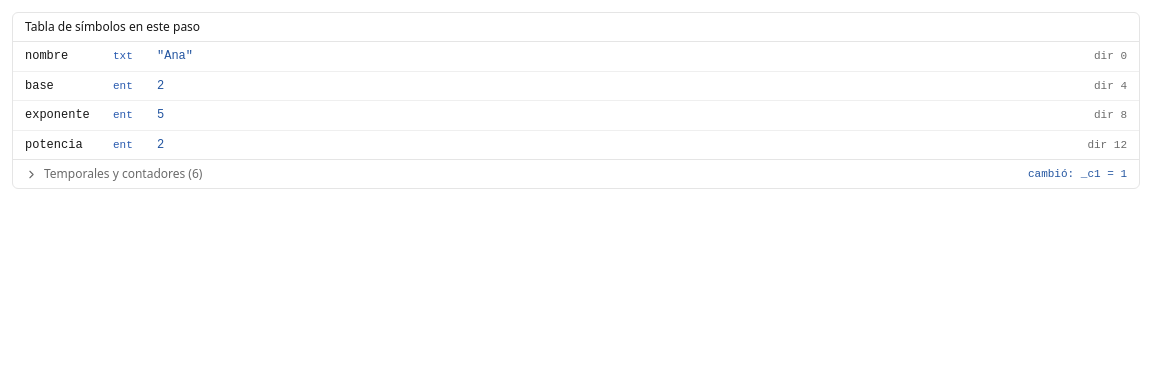
Scenario: trazas más claras › los temporales van aparte y, plegados, dicen cuál cambió
Click the button "Temporales y contadores (6) cambió: _c1 = 1" at (123, 174), box [13,160,1139,188]
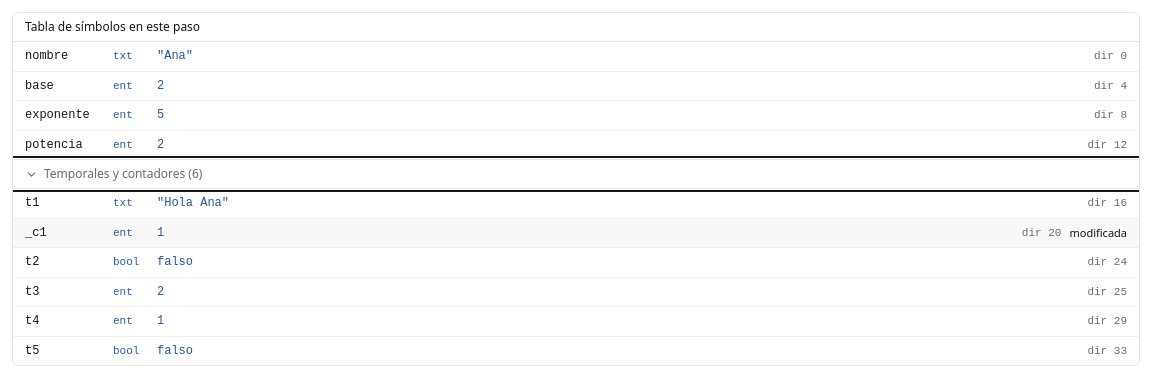
Now the list named "Temporales" shows "_c1", box [25,225,105,241]
